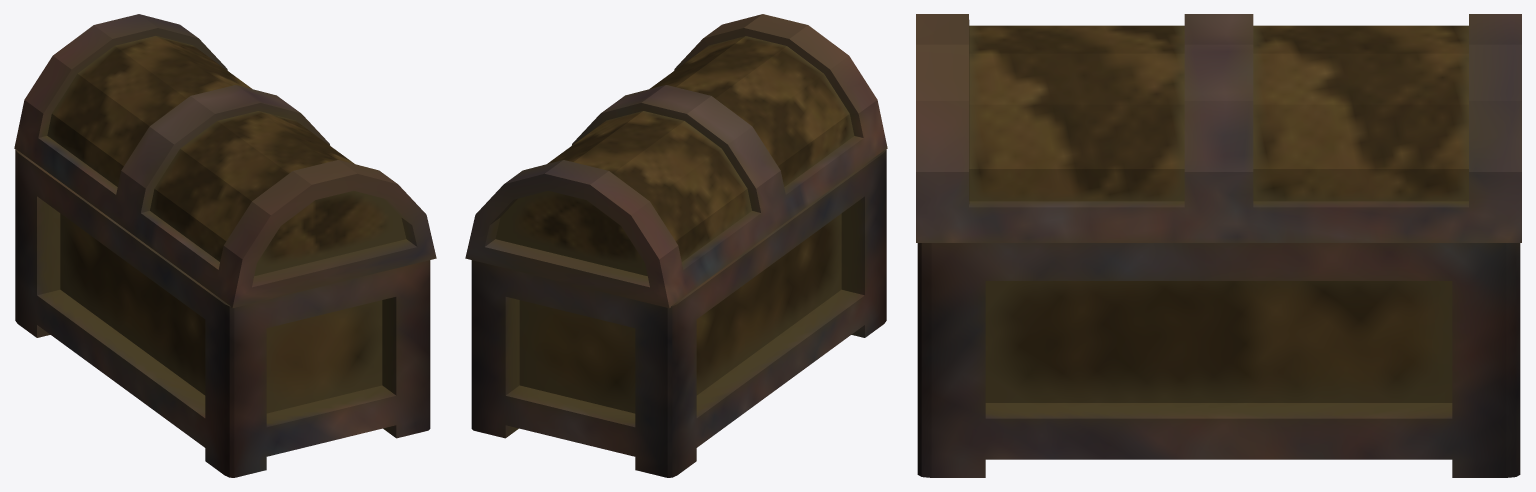
The model's file is Chest_Box.fbx.
The picture shows the model from 3 angles, left to right: view 1: azimuth 30°, elevation 25°; view 2: azimuth 150°, elevation 25°; view 3: azimuth 270°, elevation 25°; orthographic projection. The views are drawn at different scales.
Parts seen in each view (by area): view 1: Chest_Box_Top, Chest_Box; view 2: Chest_Box_Top, Chest_Box; view 3: Chest_Box_Top, Chest_Box.
Boxes of the visible parts, left/top/right/bottom form: Chest_Box_Top: left=14, top=14, right=436, bottom=308; Chest_Box: left=15, top=149, right=430, bottom=477; Chest_Box_Top: left=465, top=14, right=887, bottom=308; Chest_Box: left=471, top=149, right=886, bottom=477; Chest_Box_Top: left=916, top=14, right=1521, bottom=242; Chest_Box: left=917, top=243, right=1520, bottom=477.
Bounding box in the file's own units: 60.99 × 77.58 × 112.
1 material, 1 textured.
